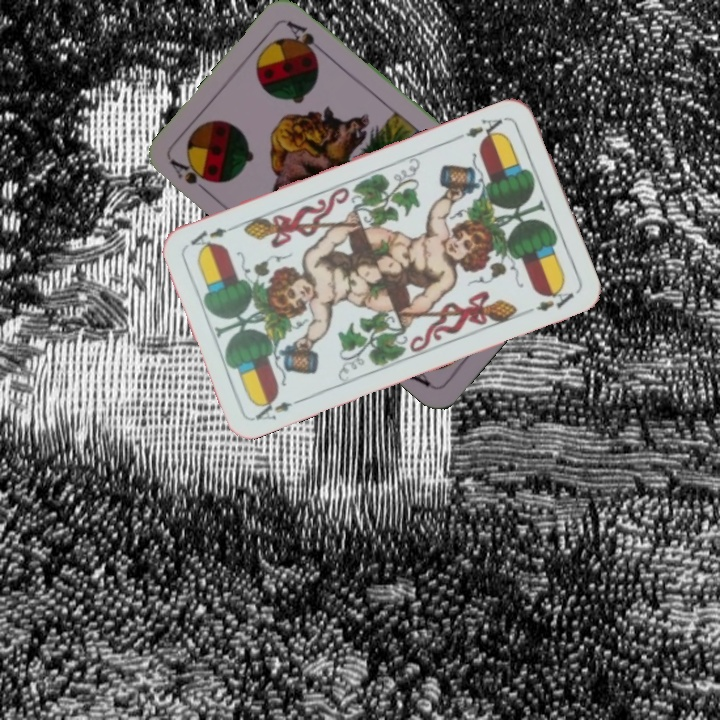EA: (251, 393, 307, 423), (462, 113, 510, 145)
SA: (167, 155, 216, 200)
